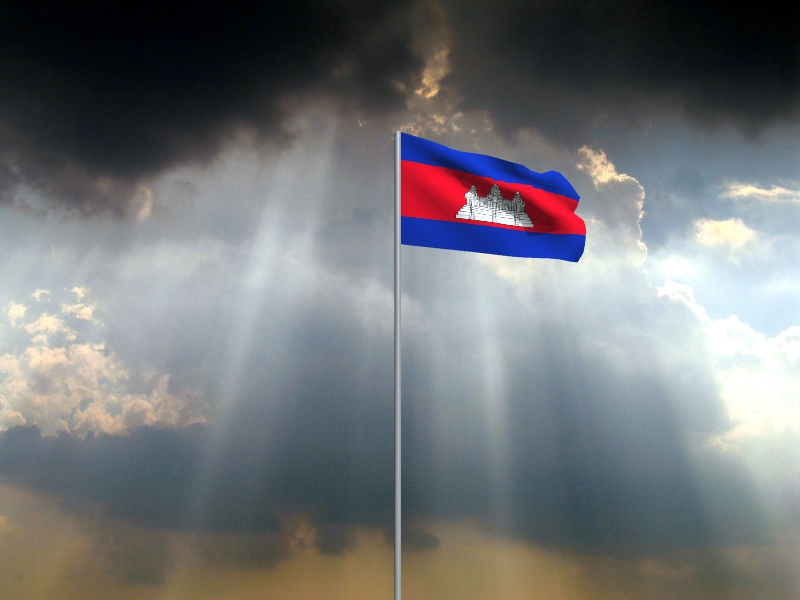kh: (402, 133, 587, 264)
